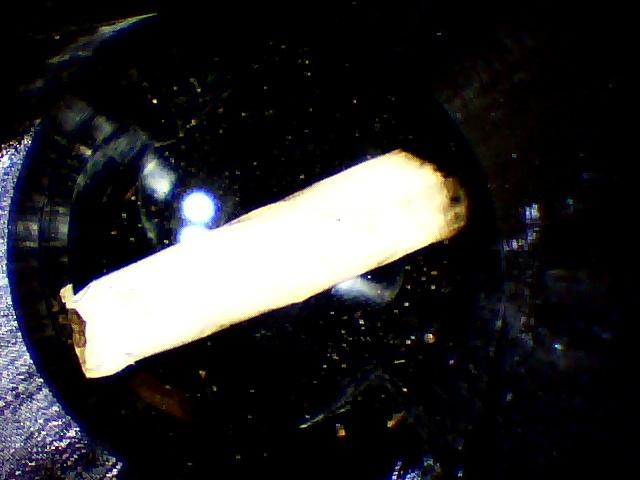megot: (46, 133, 478, 408)
